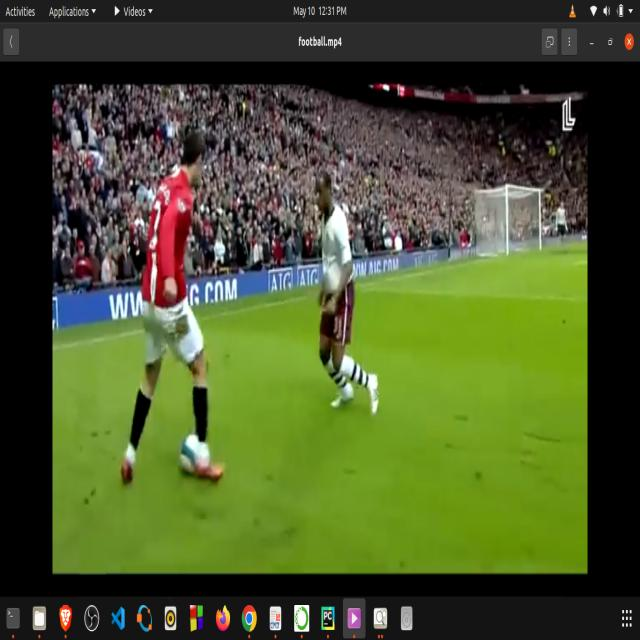Ball: (179, 424, 206, 478)
football-players: (120, 113, 230, 499), (304, 163, 395, 428)
